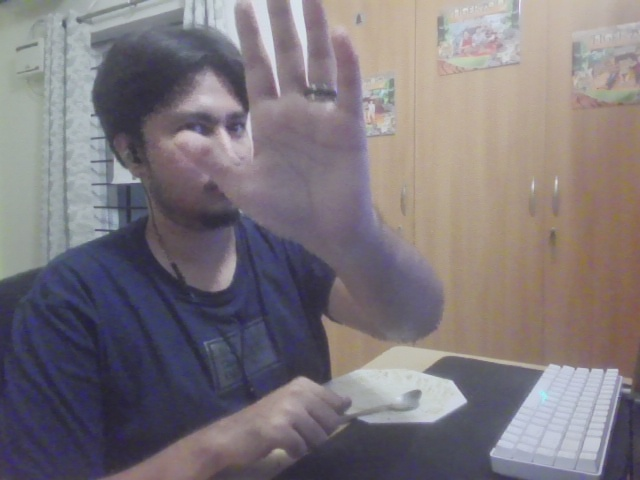hello: (171, 1, 381, 248)
